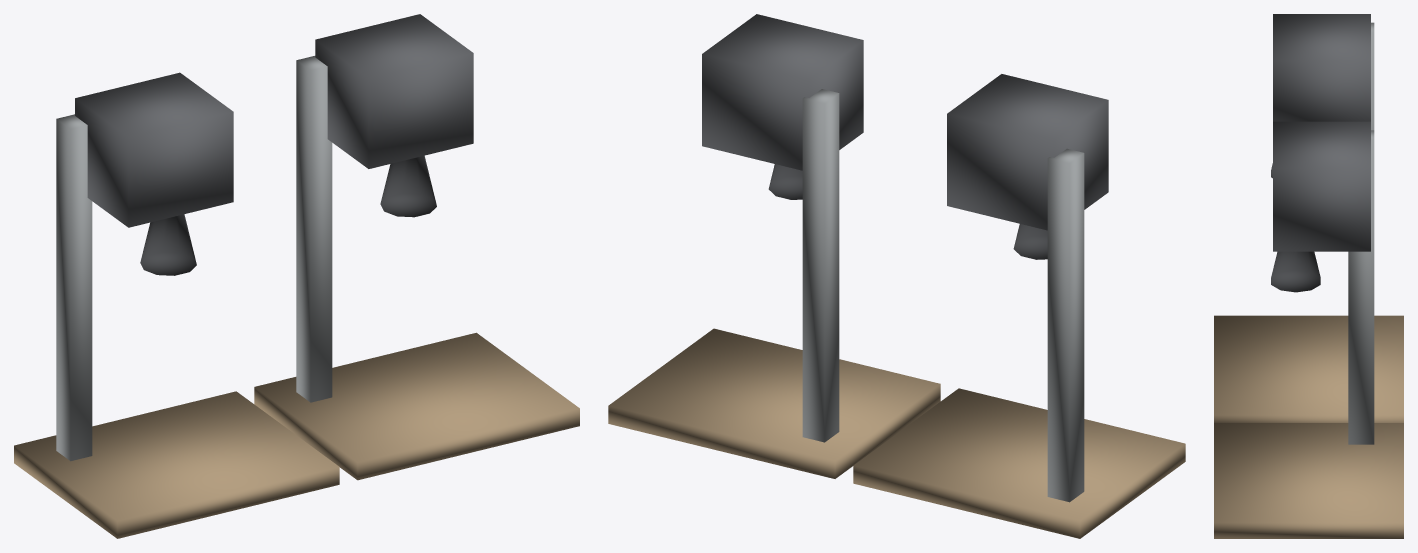
The model's file is photo_enlarger__cluster.glb.
The picture shows the model from 3 angles, left to right: view 1: azimuth 30°, elevation 25°; view 2: azimuth 150°, elevation 25°; view 3: azimuth 270°, elevation 25°; orthographic projection. The views are drawn at different scales.
Visible parts, largest first — view 1: world; view 2: world; view 3: world.
Part boxes in pixels (x1,y1,x2,y2): world: (14, 14, 579, 538); world: (608, 14, 1185, 538); world: (1214, 14, 1403, 538).
Bounding box in the file's own units: 1.5 × 1.14 × 0.58.
